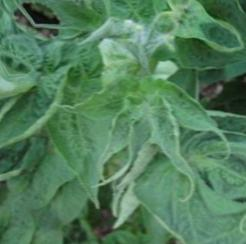Tomato leaf mosaic virus: (20, 65, 155, 208), (109, 136, 234, 244), (118, 90, 228, 200), (135, 71, 246, 156)
